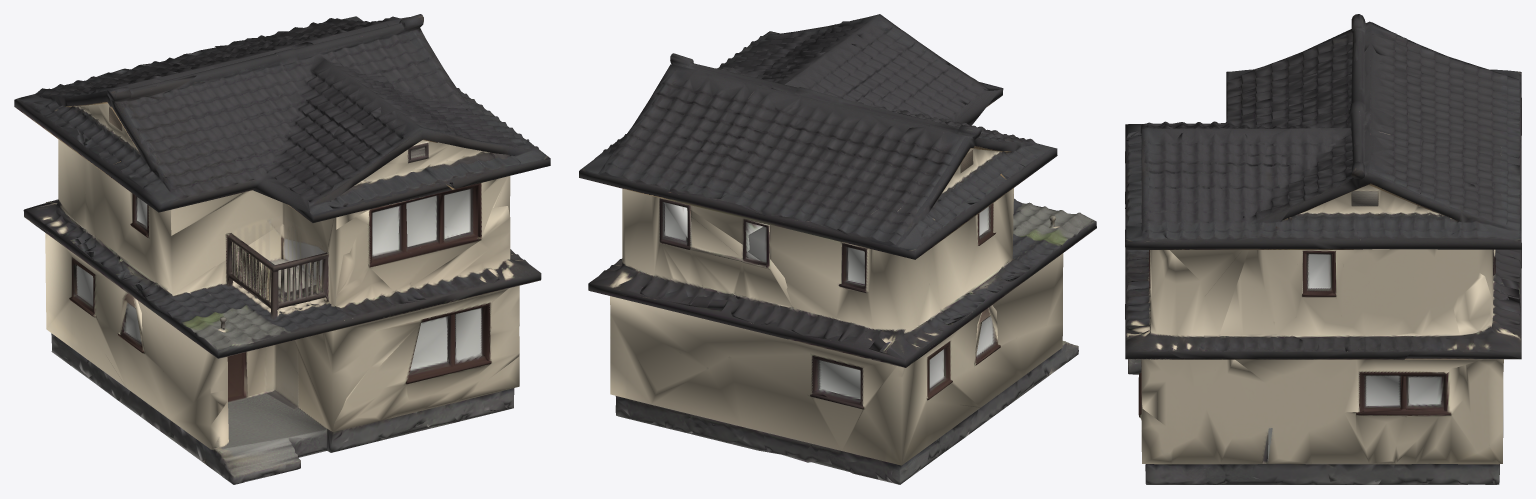
The picture shows the model from 3 angles, left to right: view 1: azimuth 30°, elevation 25°; view 2: azimuth 150°, elevation 25°; view 3: azimuth 270°, elevation 25°; orthographic projection. The views are drawn at different scales.
Bounding box in the file's own units: 1.91 × 1.68 × 1.88.
1 material, 1 textured.
